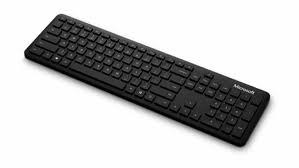keyboard: (22, 9, 275, 156)
